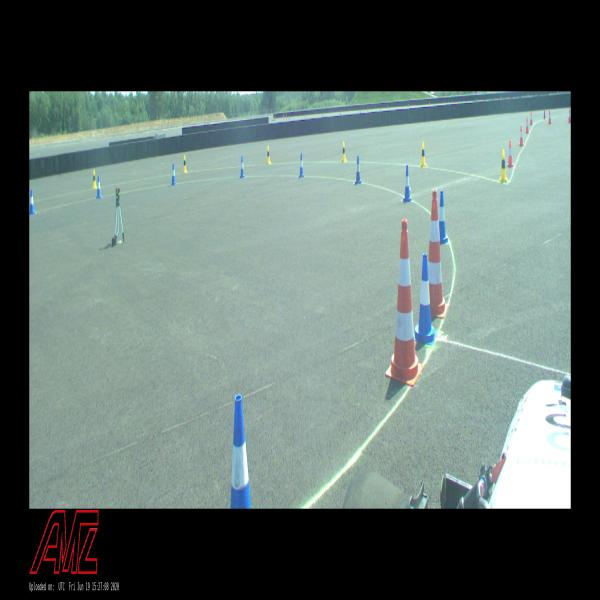blue_cone: (230, 395, 251, 508), (414, 254, 437, 345), (439, 190, 448, 244), (403, 165, 412, 202), (355, 155, 361, 184), (30, 189, 36, 214), (96, 176, 102, 198), (299, 153, 304, 178), (240, 156, 245, 178), (171, 163, 176, 184)
large_orange_cone: (386, 218, 424, 387), (428, 189, 448, 318)
orange_cone: (507, 140, 514, 168), (519, 125, 524, 146), (526, 117, 530, 133), (548, 110, 552, 124), (568, 109, 571, 123), (530, 111, 533, 124)
yellow_cone: (499, 149, 508, 183), (420, 142, 426, 167), (342, 142, 346, 163), (266, 146, 270, 164), (183, 155, 187, 173), (92, 170, 96, 188)
